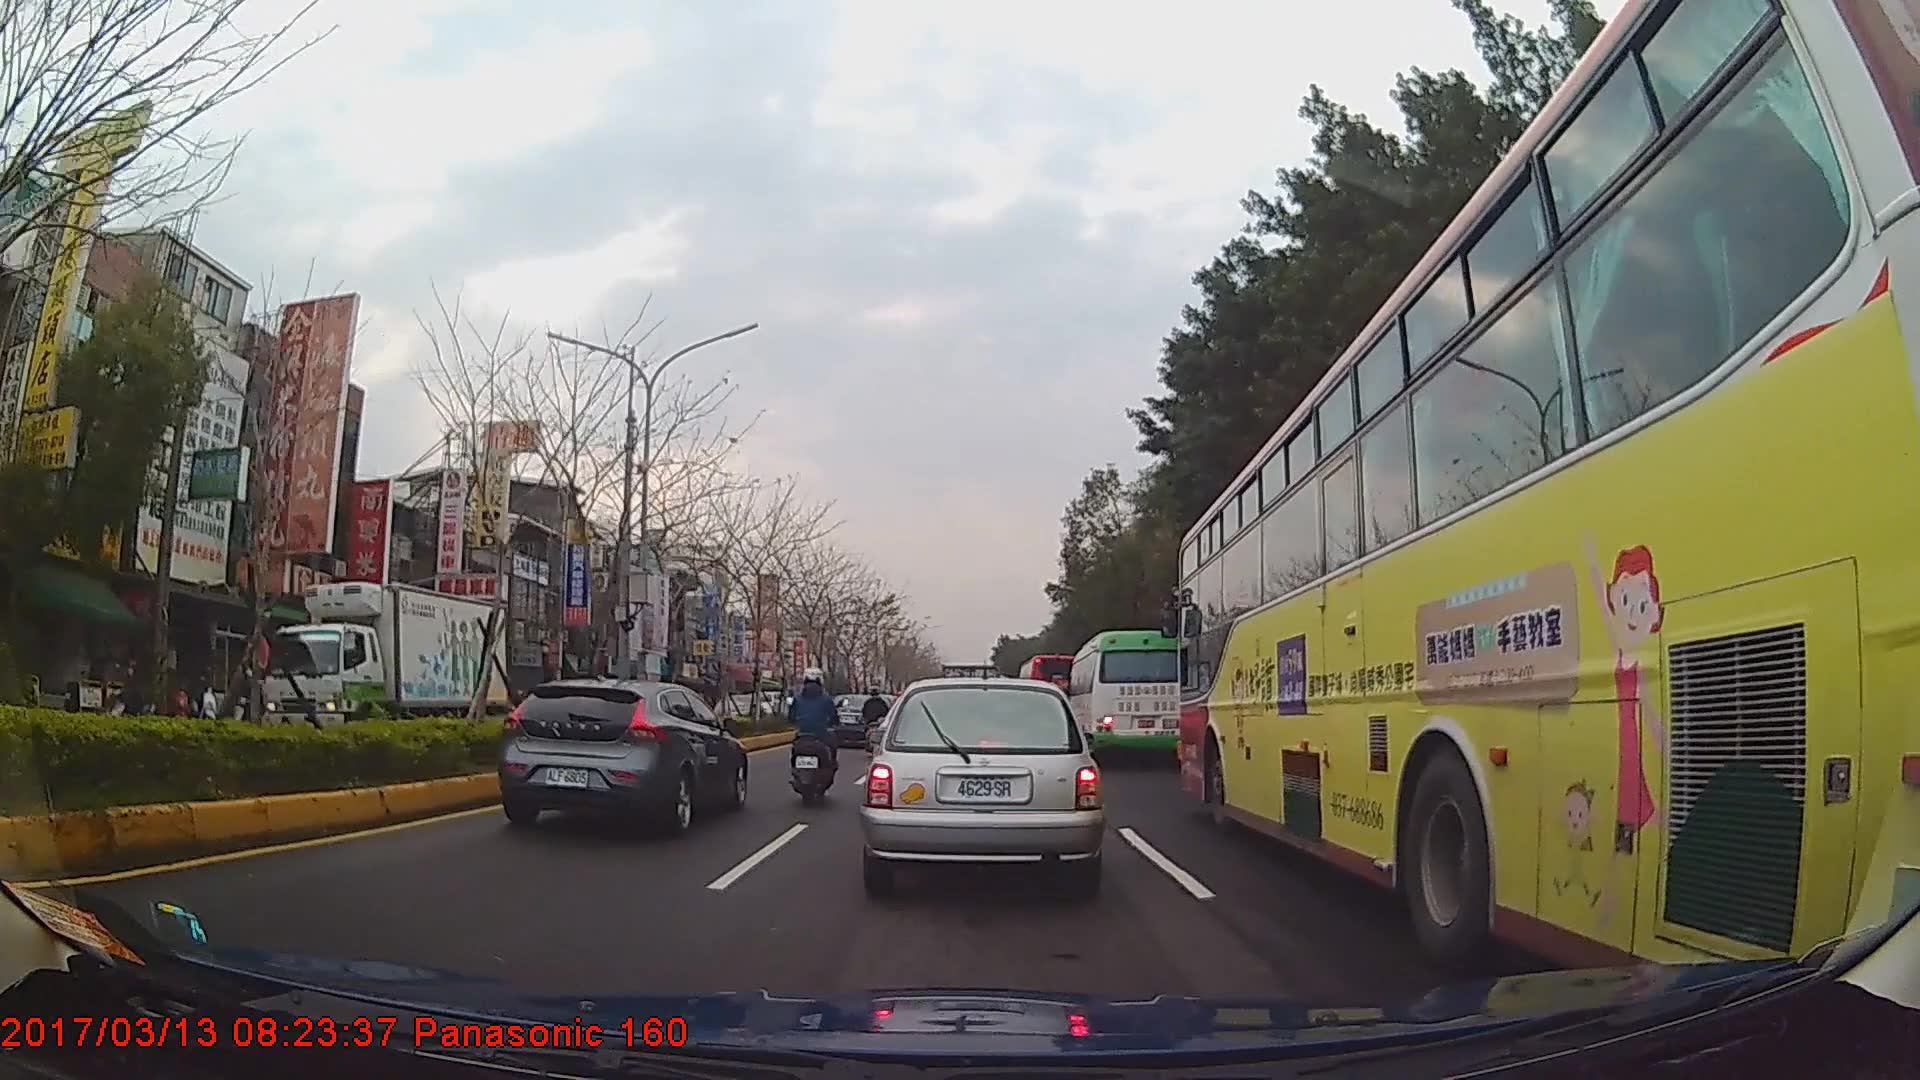rider: (789, 665, 843, 792), (111, 659, 156, 716), (863, 686, 890, 751), (233, 670, 267, 723)
vehicle: (1178, 0, 1920, 1026), (861, 676, 1100, 894), (263, 580, 508, 758), (499, 673, 748, 836), (1067, 626, 1185, 765), (1016, 651, 1083, 722)
